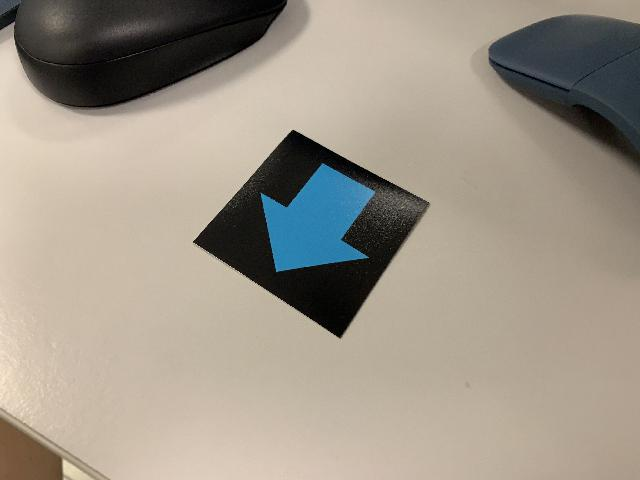down: (191, 127, 433, 347)
